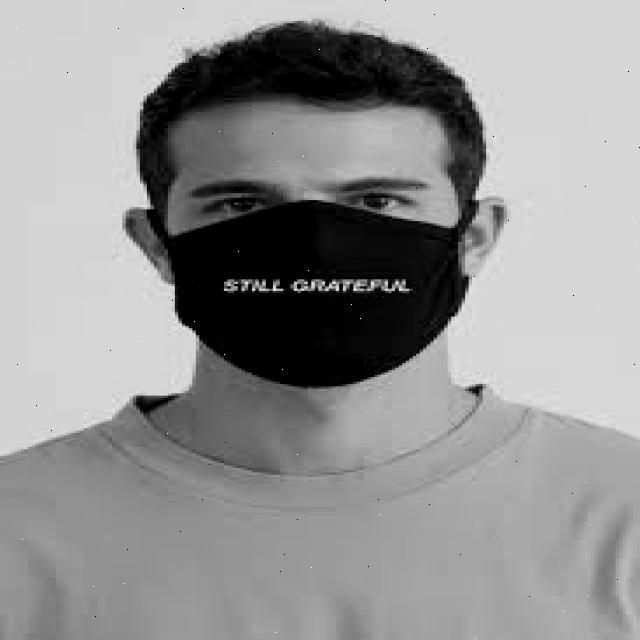fake: (104, 198, 512, 389)
real: (165, 107, 473, 396)
